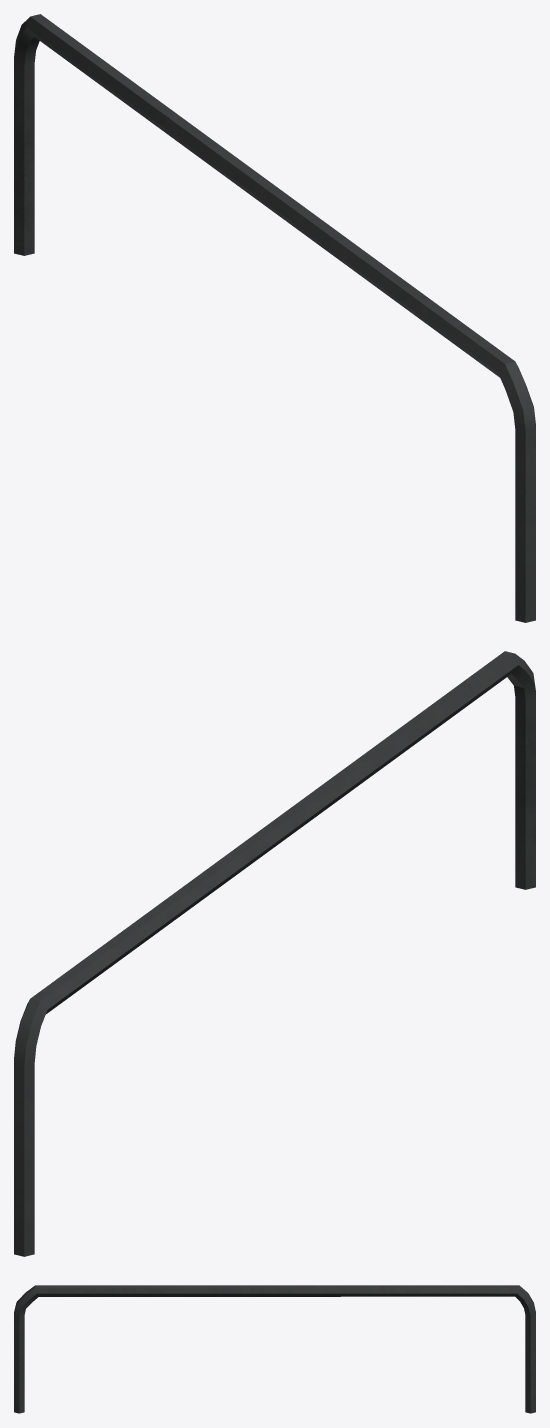
File: Handrails_2.fbx
The picture shows the model from 3 angles, top to bottom: view 1: azimuth 30°, elevation 25°; view 2: azimuth 150°, elevation 25°; view 3: azimuth 270°, elevation 25°; orthographic projection. The views are drawn at different scales.
Parts seen in each view (by area): view 1: Handrails_2; view 2: Handrails_2; view 3: Handrails_2.
Part boxes in pixels (x1=…): Handrails_2: x1=14, y1=14, x2=535, y2=622; Handrails_2: x1=14, y1=651, x2=535, y2=1256; Handrails_2: x1=14, y1=1285, x2=535, y2=1413.
Size of the model in its own units: 0.0996 by 1.12 by 4.27.
